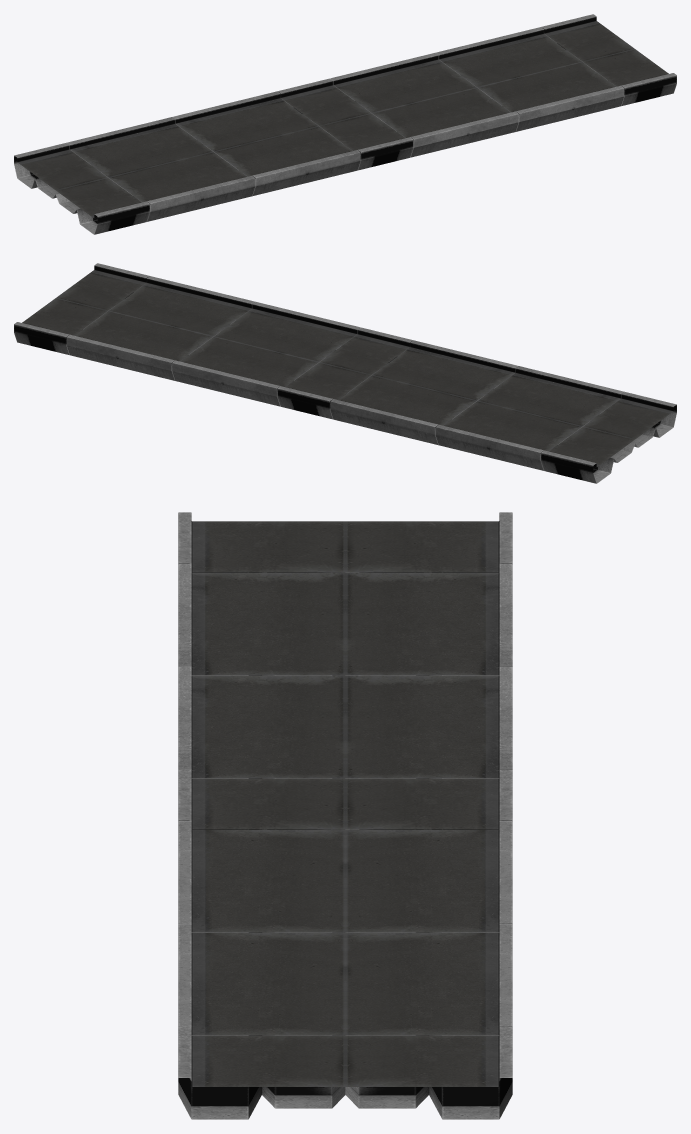
The model's file is platform.glb.
3 views of the same model, one above another, from view 1: azimuth 30°, elevation 25°; view 2: azimuth 150°, elevation 25°; view 3: azimuth 270°, elevation 25° (orthographic). The views are drawn at different scales.
Visible parts, largest first — view 1: Object_20; view 2: Object_20; view 3: Object_20.
Part boxes in pixels (left/top/right/bottom): Object_20: left=14, top=14, right=676, bottom=234; Object_20: left=14, top=263, right=676, bottom=483; Object_20: left=178, top=512, right=512, bottom=1119.
Bounding box in the file's own units: 14.84 × 0.5086 × 3.71.
Materials: 1 (1 with a texture image).
